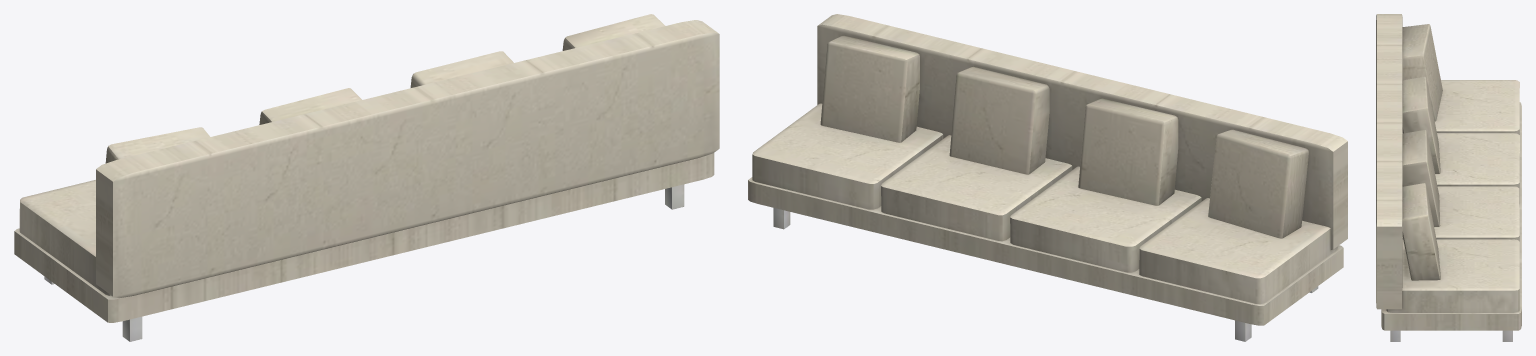
The model's file is lobby_sofa.glb.
3 views of the same model, side by side, from view 1: azimuth 30°, elevation 25°; view 2: azimuth 150°, elevation 25°; view 3: azimuth 270°, elevation 25° (orthographic). The views are drawn at different scales.
Parts seen in each view (by area): view 1: lobby_sofa; view 2: lobby_sofa; view 3: lobby_sofa.
Part boxes in pixels (box(x1,y1,x2,y2)): lobby_sofa: box(14, 14, 719, 341); lobby_sofa: box(748, 14, 1347, 341); lobby_sofa: box(1376, 14, 1521, 341).
Size of the model in its own units: 3.4 by 0.9501 by 0.985.
1 material, 1 textured.
